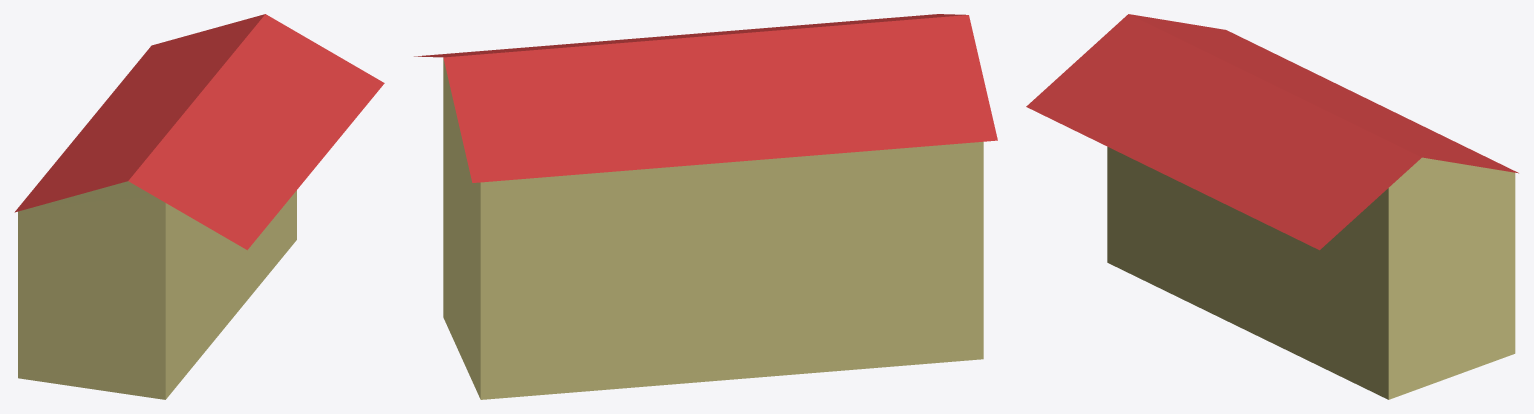
The picture shows the model from 3 angles, left to right: view 1: azimuth 30°, elevation 25°; view 2: azimuth 150°, elevation 25°; view 3: azimuth 270°, elevation 25°; orthographic projection. The views are drawn at different scales.
Bounding box in the file's own units: 29.82 × 28.72 × 15.03.
